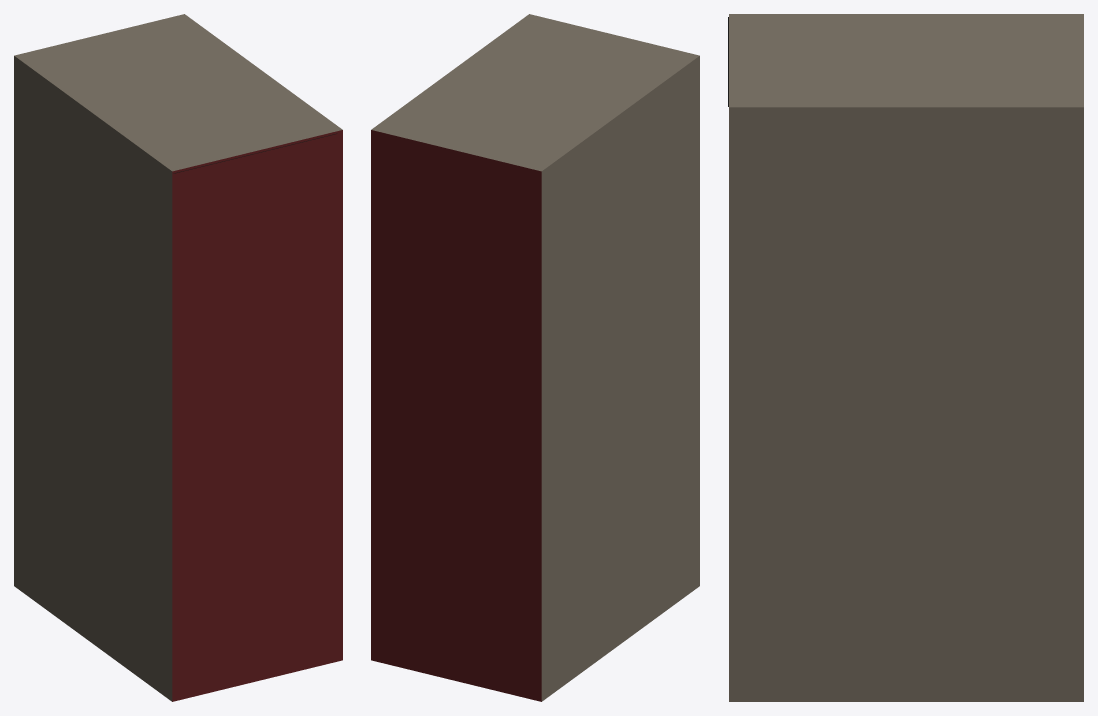
File: alamo.gltf
3 views of the same model, side by side, from view 1: azimuth 30°, elevation 25°; view 2: azimuth 150°, elevation 25°; view 3: azimuth 270°, elevation 25° (orthographic). The views are drawn at different scales.
Parts seen in each view (by area): view 1: room; view 2: room; view 3: room.
Part boxes in pixels (x1,y1,x2,y2): room: [14, 14, 342, 701]; room: [371, 14, 699, 701]; room: [729, 14, 1083, 701].
Bounding box in the file's own units: 9.6 × 28.52 × 15.46.
